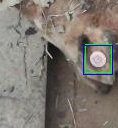text: (85, 44, 111, 72)
